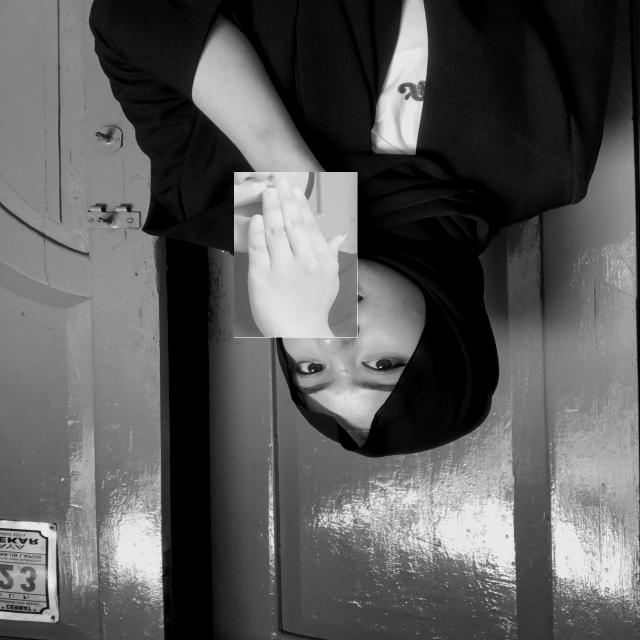ngantuk: (234, 172, 358, 338)
